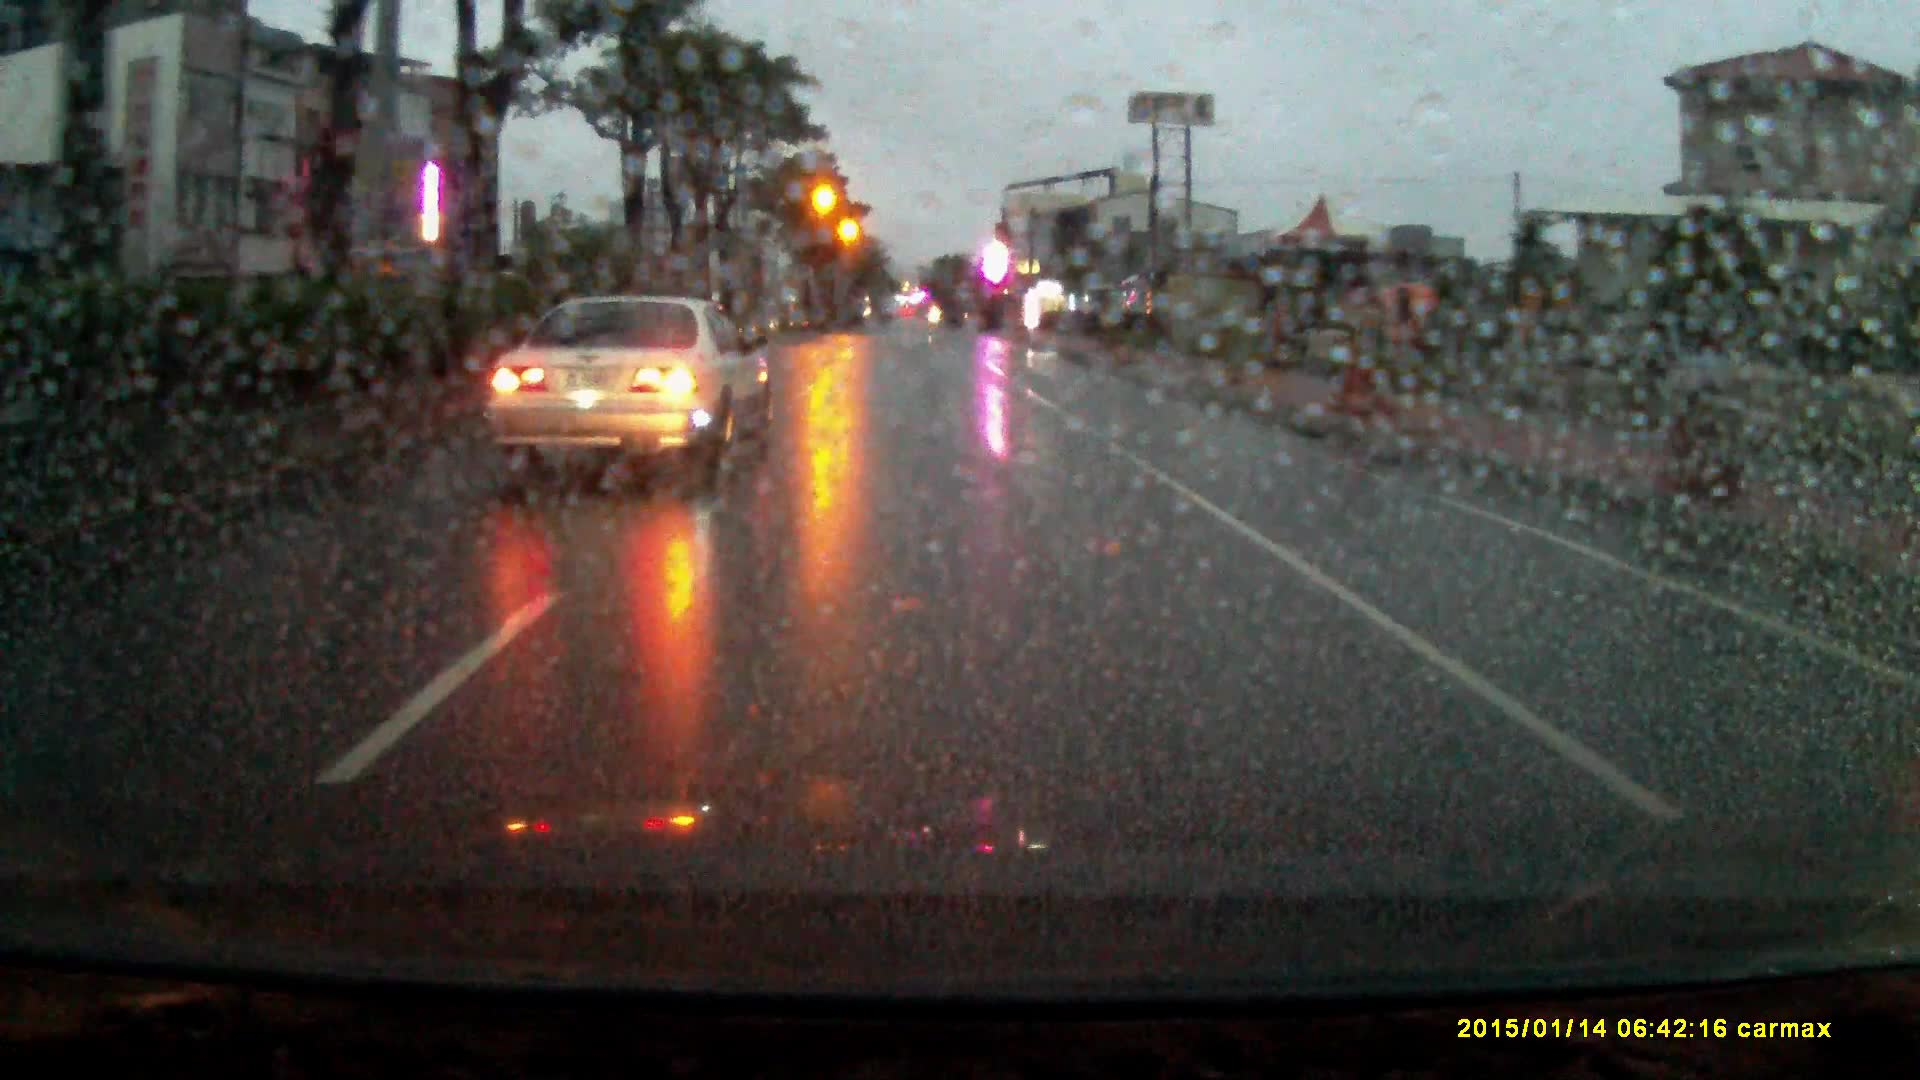pedestrian: (1368, 277, 1441, 428)
vehicle: (487, 291, 781, 483)
